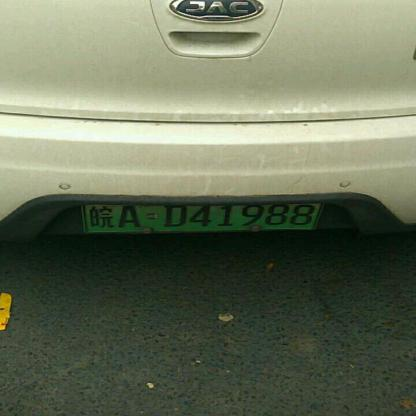lp: (84, 204, 321, 230)
